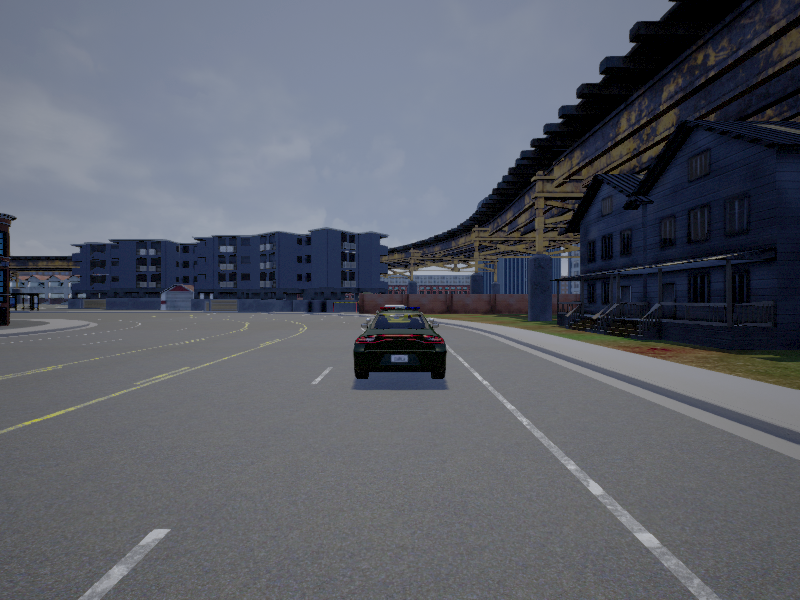benign: (353, 305, 448, 384)
